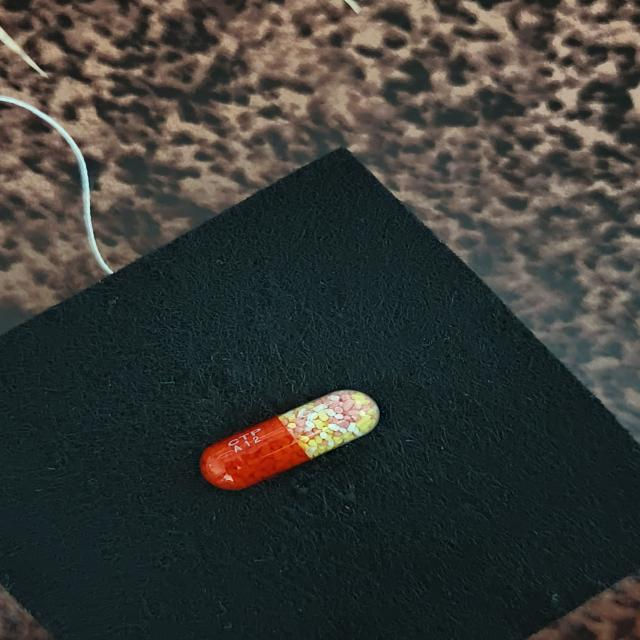Intact Capsule: (200, 390, 380, 490)
